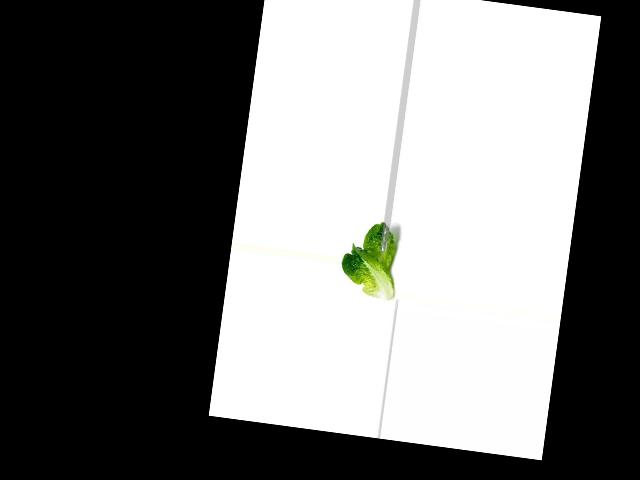lettuce: (337, 215, 400, 302)
